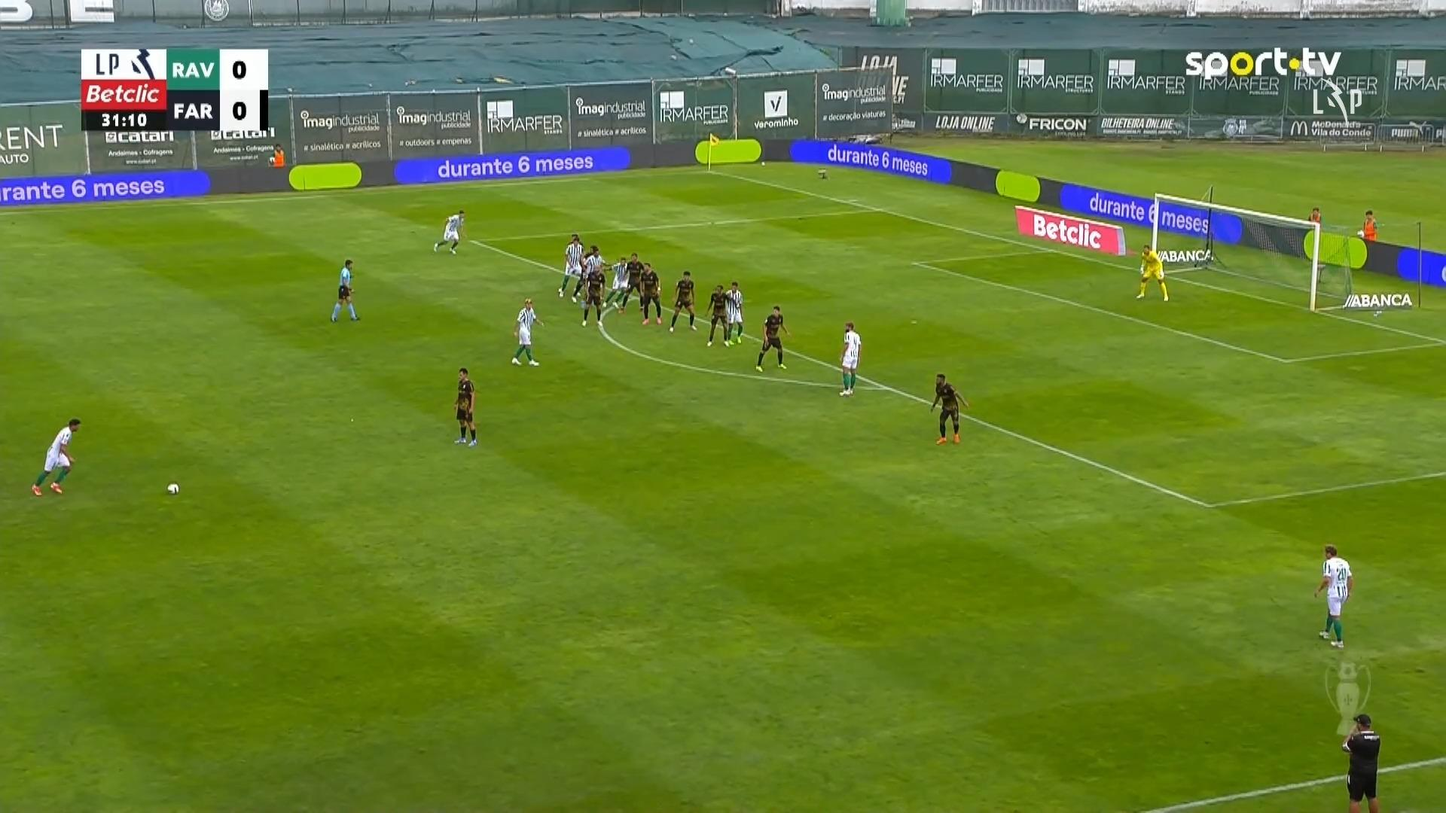ball: (166, 483, 178, 495)
goalkeeper: (1135, 243, 1168, 301)
player: (1313, 543, 1353, 648), (30, 418, 81, 496), (929, 372, 968, 444), (755, 305, 790, 372), (578, 245, 606, 327), (510, 297, 543, 366), (704, 283, 734, 347), (453, 367, 477, 446), (557, 233, 584, 303), (668, 269, 697, 332), (838, 321, 861, 396), (637, 262, 662, 325), (432, 209, 465, 255), (619, 252, 644, 312), (722, 280, 744, 345), (608, 255, 630, 313)
referee: (1341, 712, 1380, 811), (330, 257, 359, 322)
